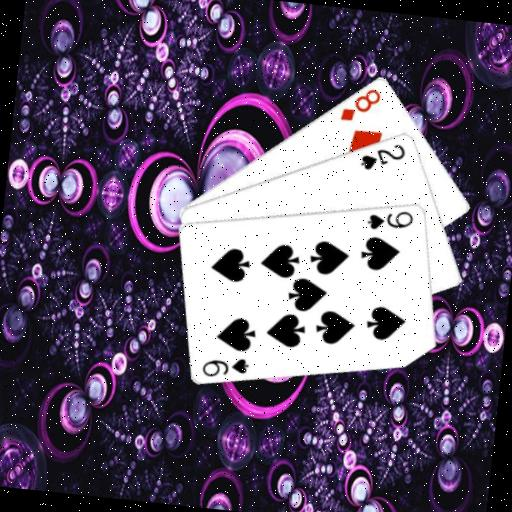2S: (357, 137, 408, 175)
8D: (337, 82, 383, 126)
9S: (363, 203, 416, 235), (199, 350, 252, 382)
